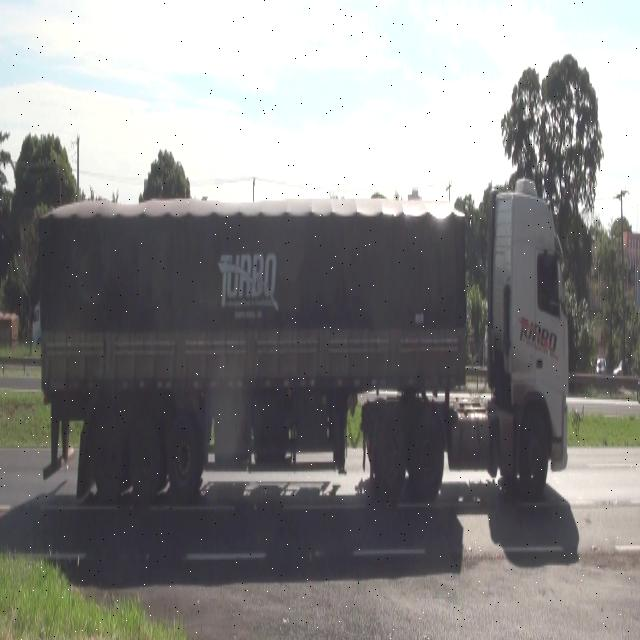-axle: (128, 408, 163, 506), (168, 406, 202, 503), (94, 406, 125, 504), (411, 418, 444, 496), (371, 414, 402, 497), (517, 414, 548, 497)
